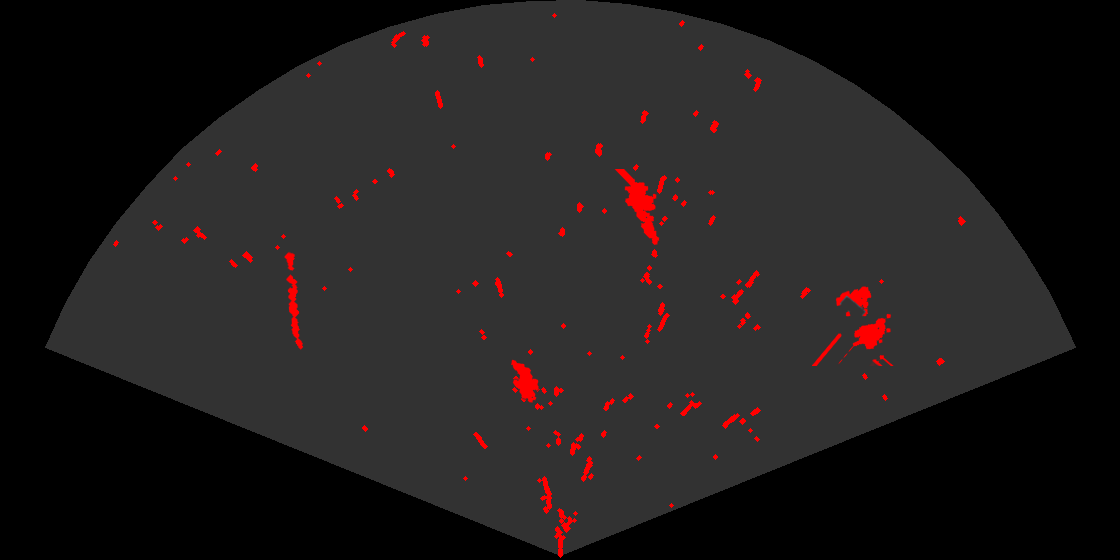AUV: (509, 358, 540, 404)
cage: (812, 285, 895, 366)
chain: (283, 251, 305, 351)
frogman: (613, 169, 661, 247)
